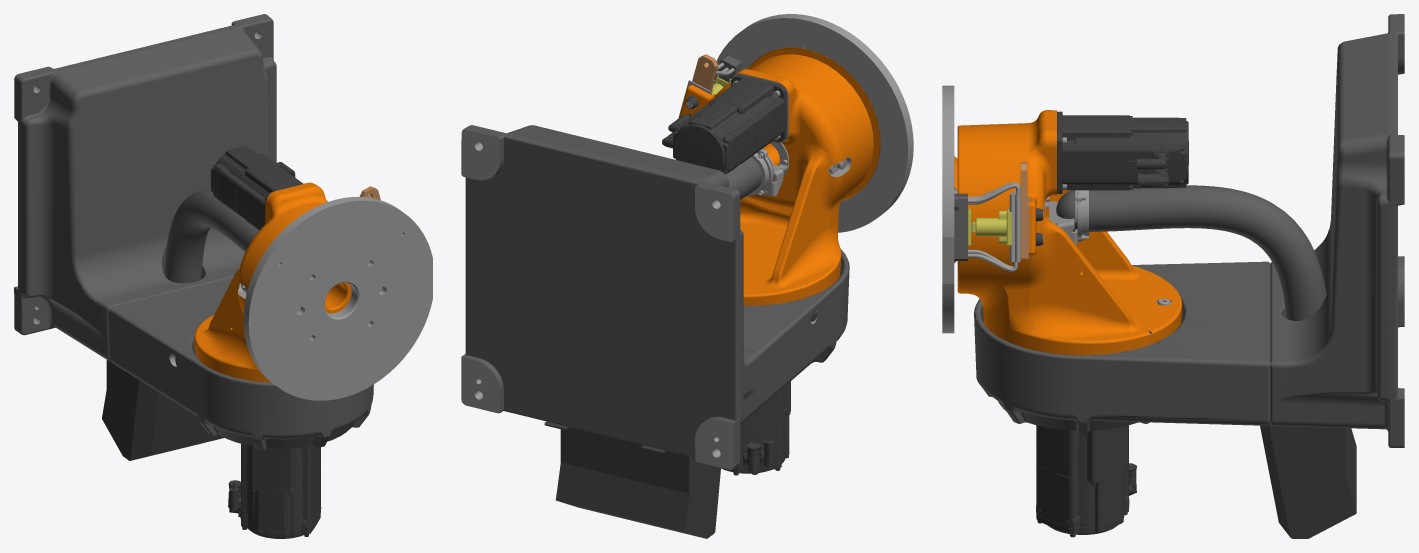
Rendered from KUKA_DKP500_2.glb.
3 renders of one model, left to right at view 1: azimuth 30°, elevation 25°; view 2: azimuth 150°, elevation 25°; view 3: azimuth 270°, elevation 25°, orthographic. The views are drawn at different scales.
Parts seen in each view (by area): view 1: link_0, link_2, link_1; view 2: link_0, link_1, link_2; view 3: link_0, link_1, link_2.
Boxes of the visible parts, <box> form: link_0: <box>14,14,373,538</box>; link_2: <box>243,197,432,400</box>; link_1: <box>194,146,380,382</box>; link_0: <box>461,125,849,538</box>; link_1: <box>662,54,873,305</box>; link_2: <box>714,14,913,232</box>; link_0: <box>974,14,1404,538</box>; link_1: <box>954,110,1188,355</box>; link_2: <box>942,85,957,333</box>.
Bounding box in the file's own units: 0.6198 × 0.8846 × 0.85.
